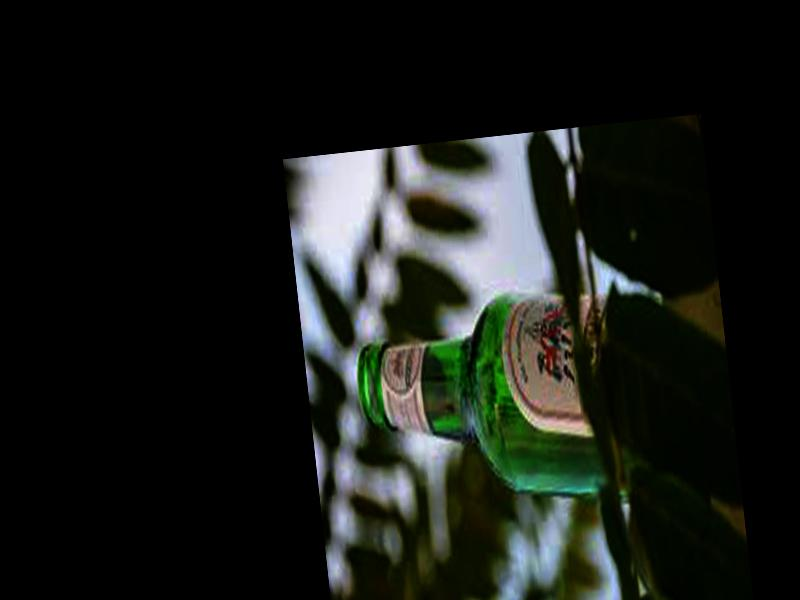Beer: (350, 286, 632, 515)
